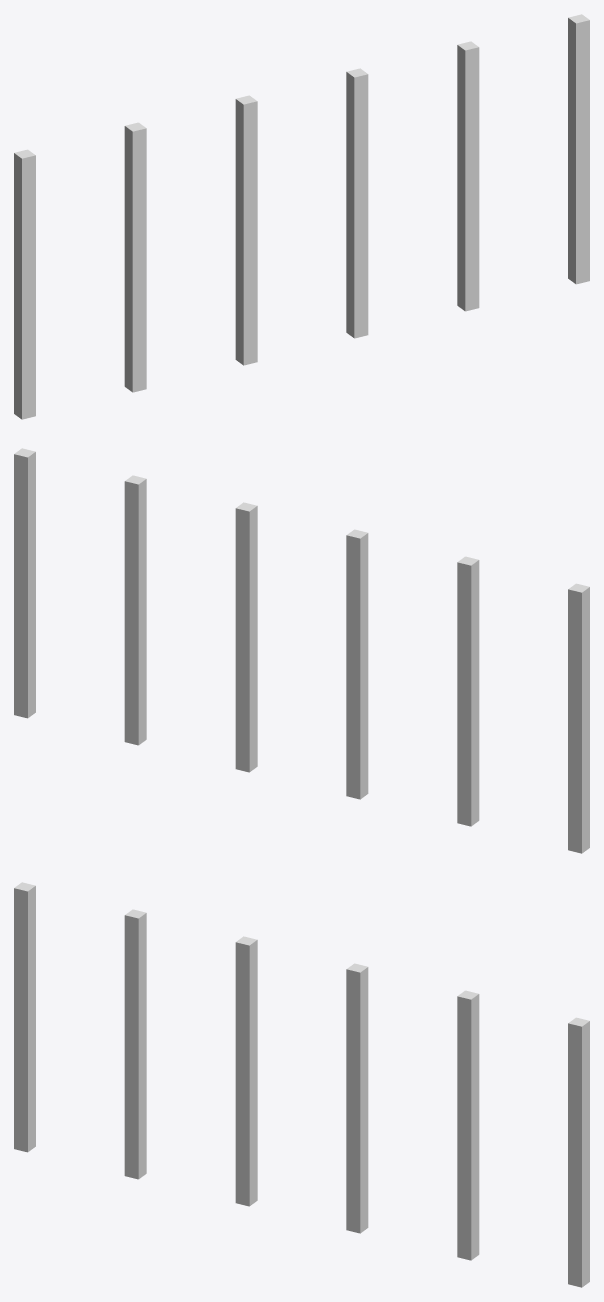
File: 4x2 third (1)-8.obj
3 renders of one model, top to bottom at view 1: azimuth 30°, elevation 25°; view 2: azimuth 150°, elevation 25°; view 3: azimuth 330°, elevation 25°, orthographic.
Parts seen in each view (by area): view 1: 4x2 third (1)-8; view 2: 4x2 third (1)-8; view 3: 4x2 third (1)-8.
Boxes of the visible parts, x1=… form: 4x2 third (1)-8: x1=14, y1=14, x2=589, y2=419; 4x2 third (1)-8: x1=14, y1=448, x2=589, y2=853; 4x2 third (1)-8: x1=14, y1=882, x2=589, y2=1287.
Size of the model in its own units: 41 by 18 by 1.
1 material, 1 textured.
